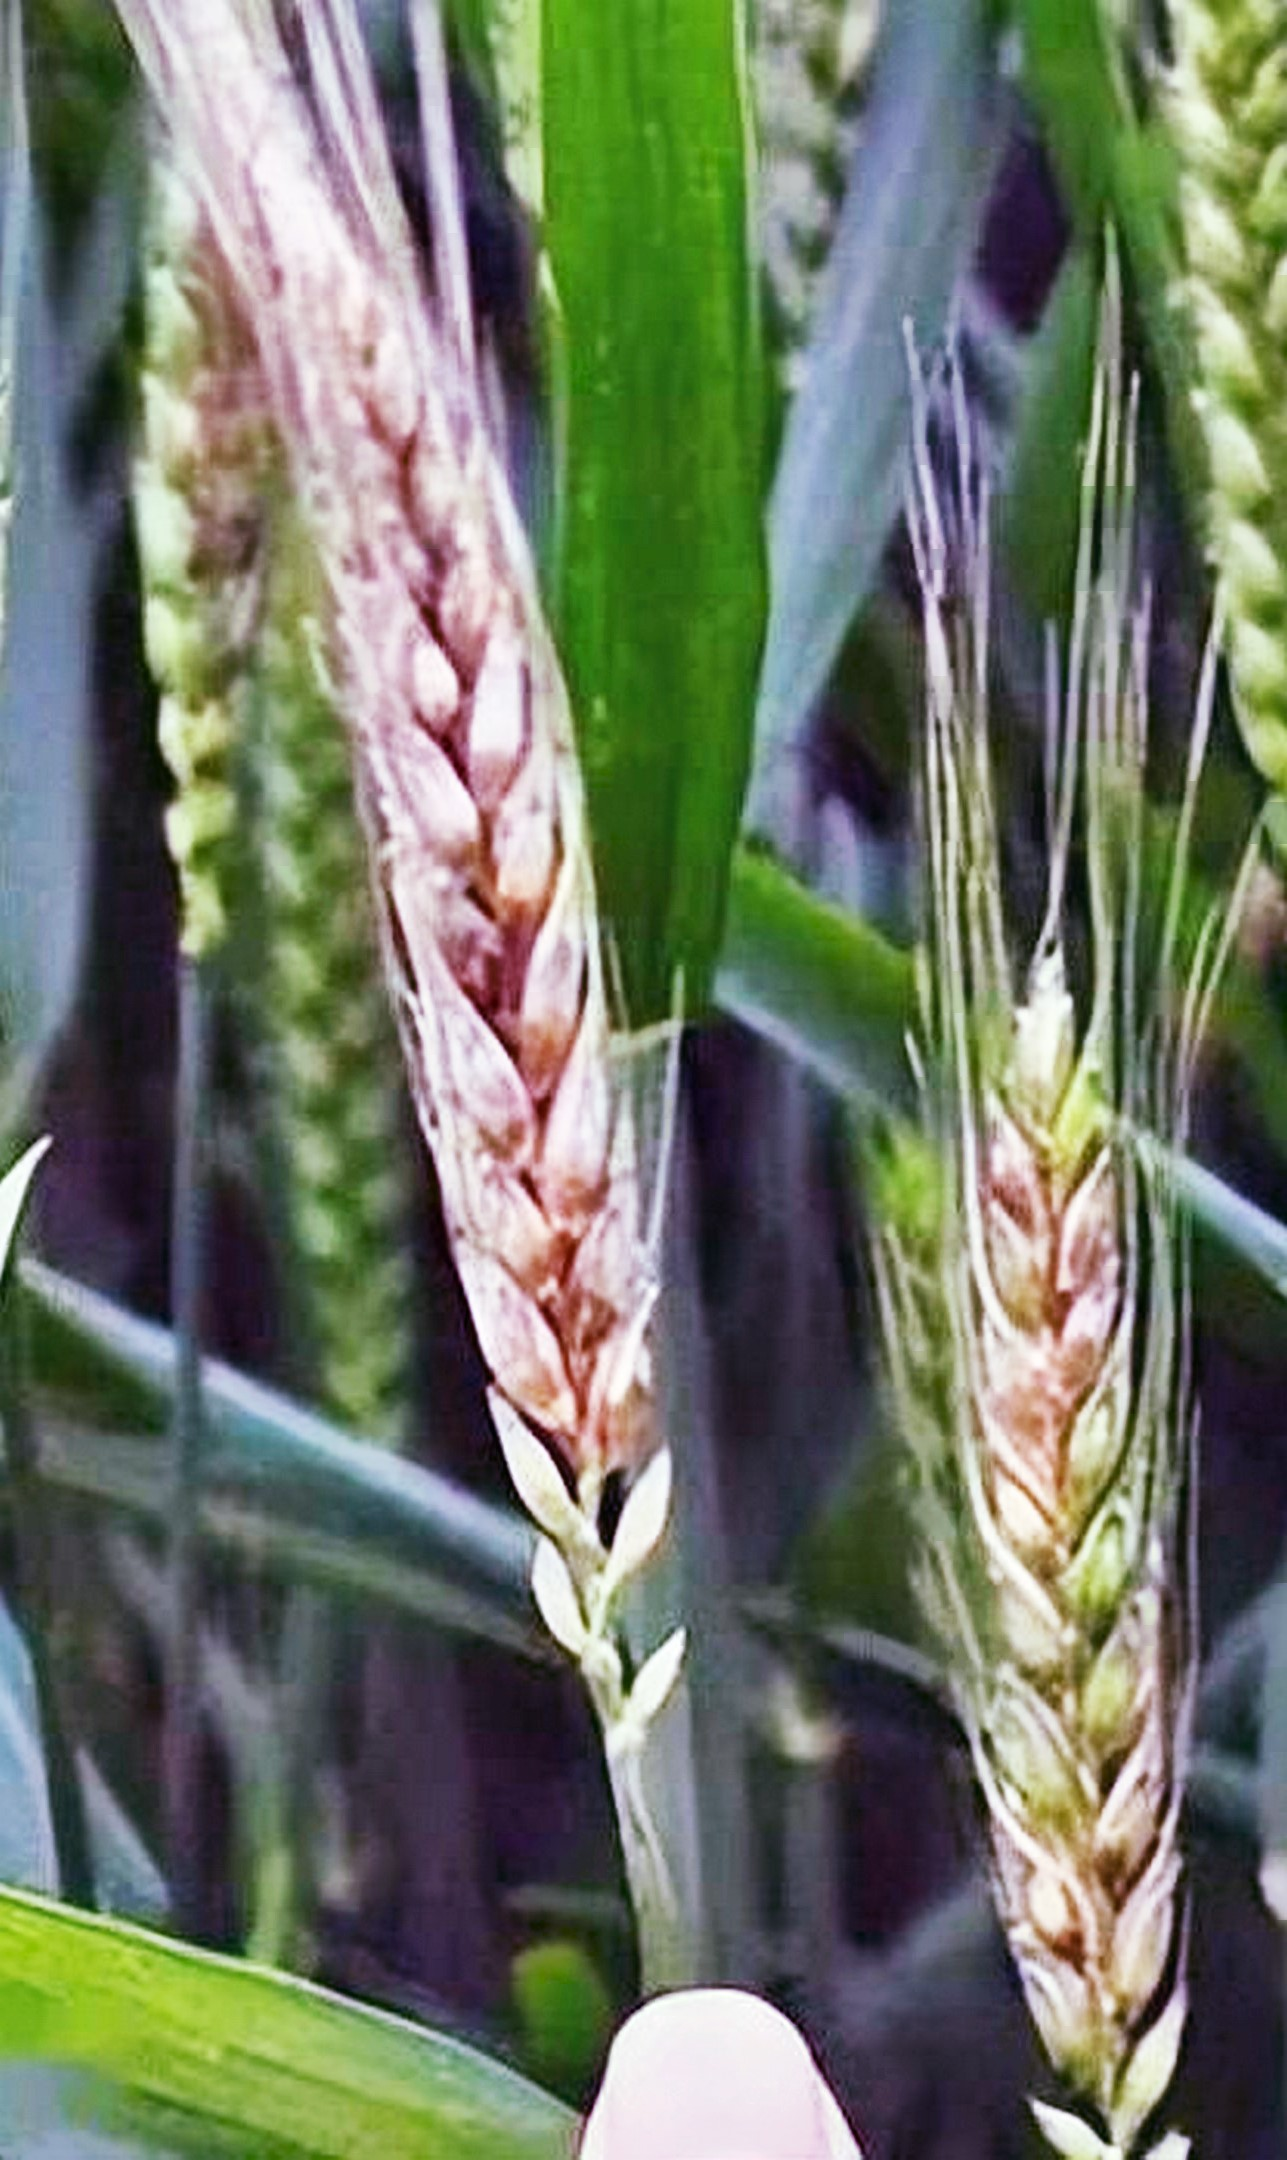Wheat scab: (228, 191, 751, 1582), (876, 945, 1252, 2126)
